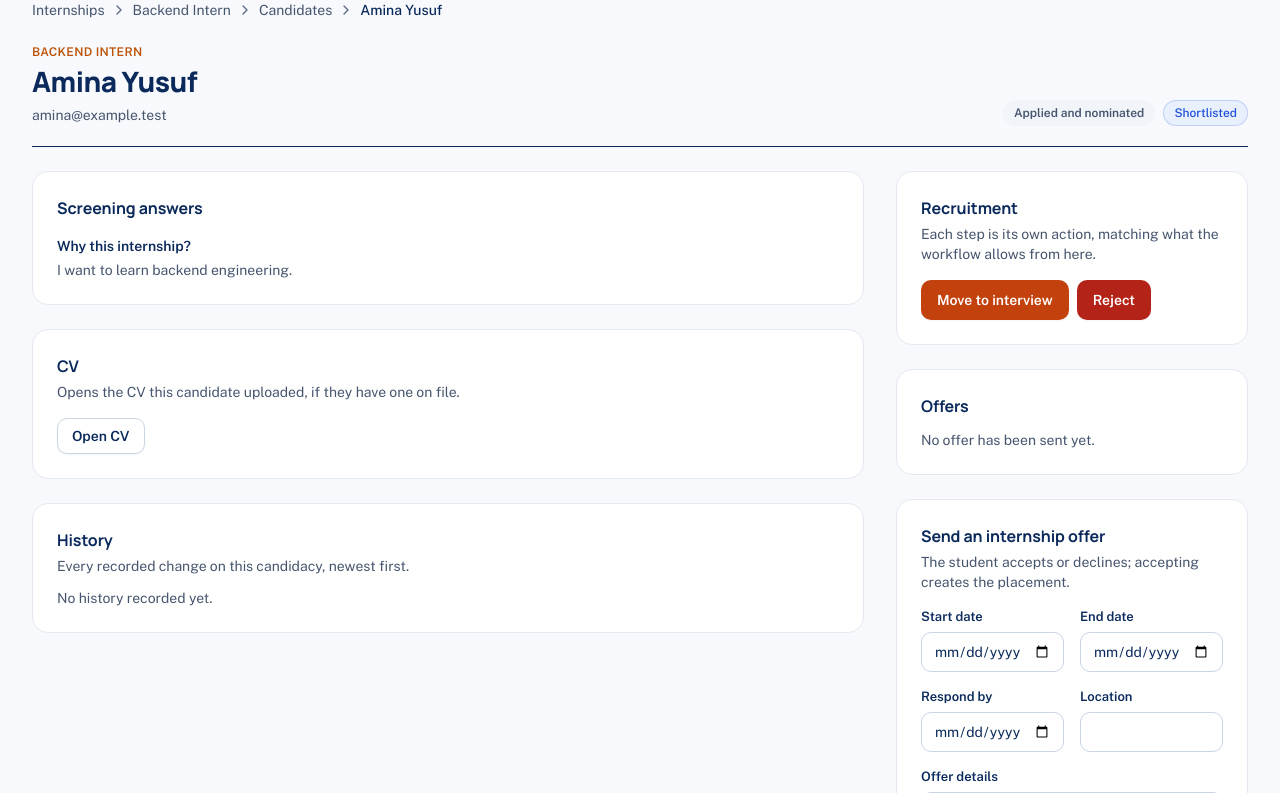
CandidateDetailPage › rejects an offer whose end date precedes the start date
Expected: the heading "Amina Yusuf" is shown, x1=32 y1=64 x2=197 y2=98
Type "2027-06-01" into the date field labelled "Start date" at (992, 652), box x1=921 y1=632 x2=1064 y2=672
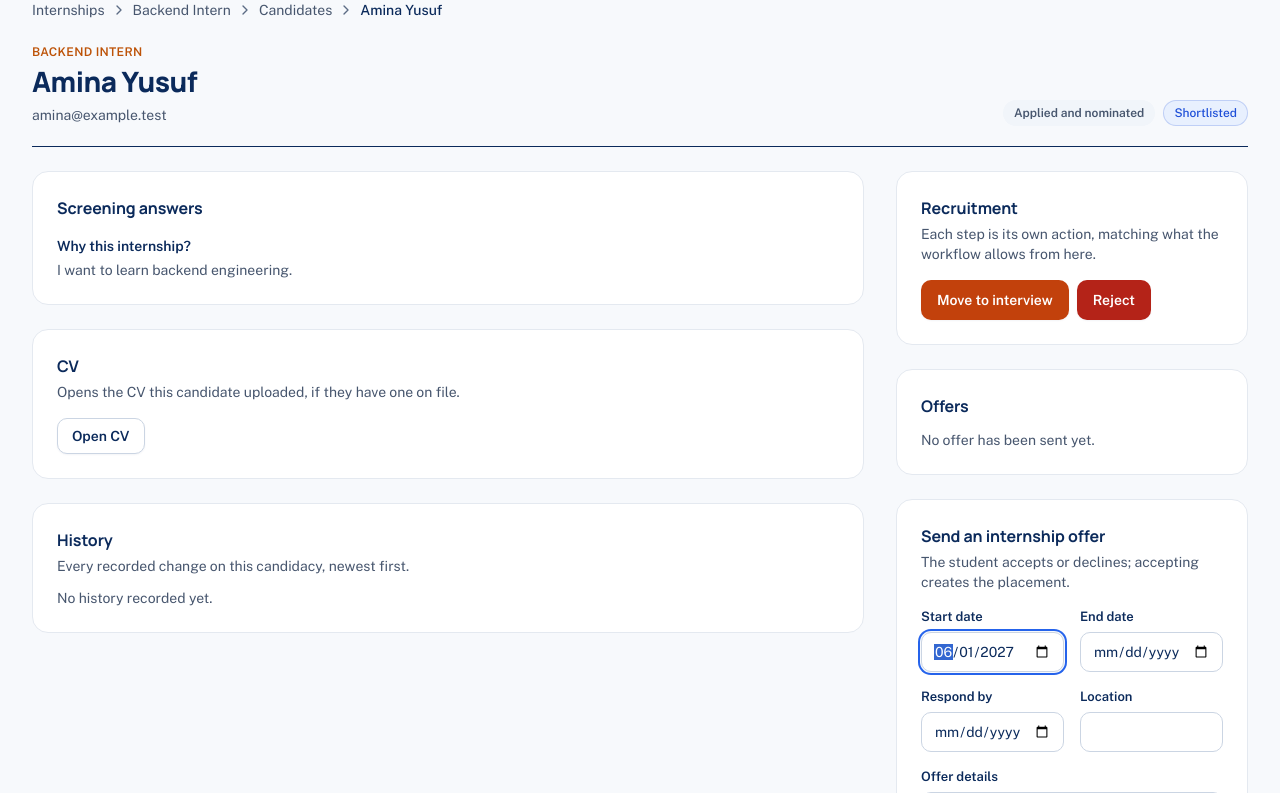
Type "2027-03-01" into the date field labelled "End date" at (1152, 652), box x1=1080 y1=632 x2=1223 y2=672
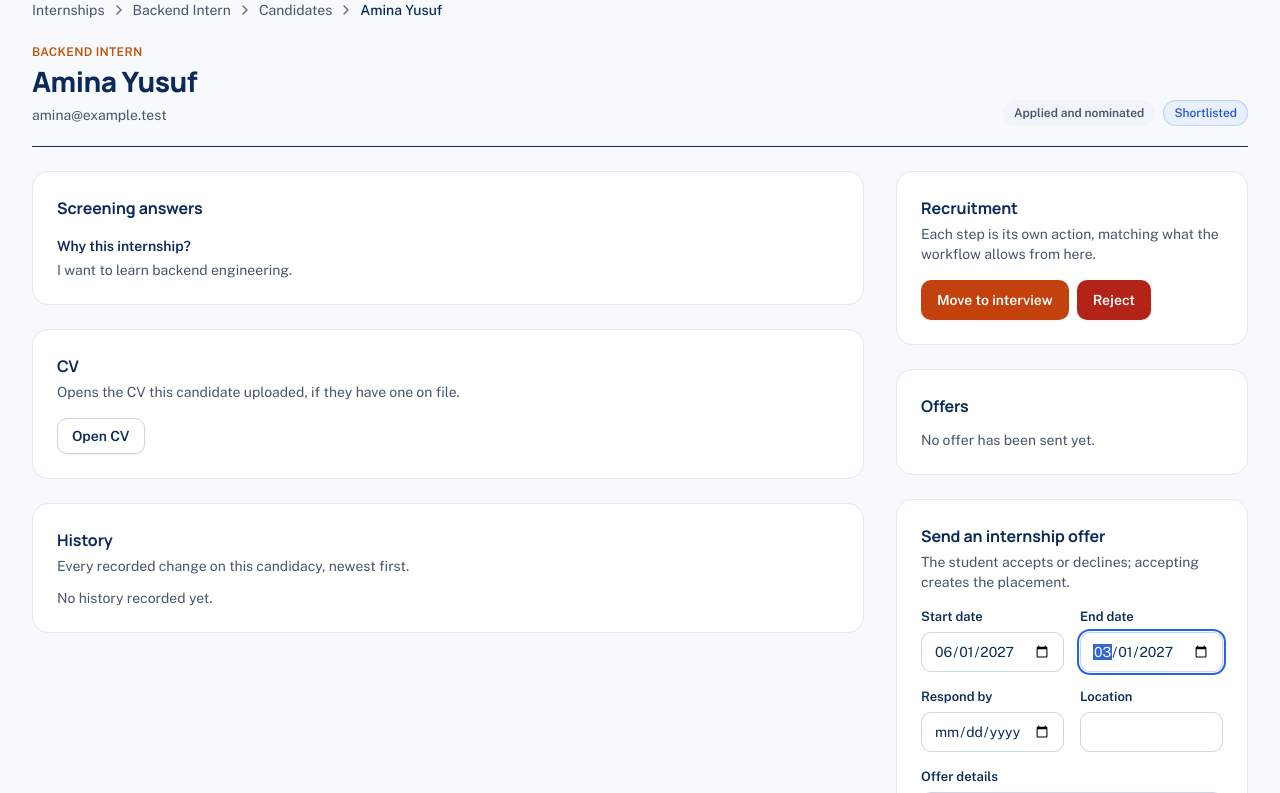
Type "2027-02-01" into the date field labelled "Respond by" at (992, 732), box x1=921 y1=712 x2=1064 y2=752
(page scrolled)
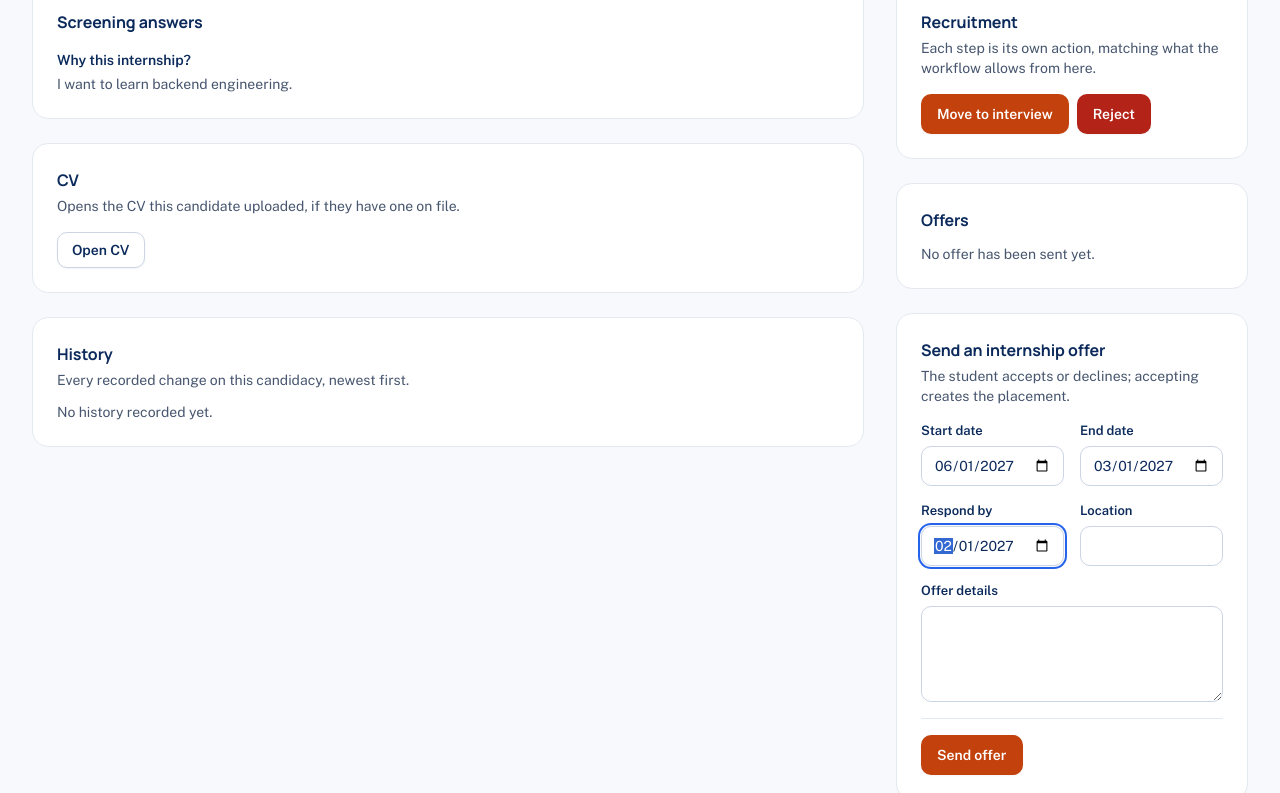
Click the button "Send offer" at (972, 755), box x1=921 y1=735 x2=1022 y2=775
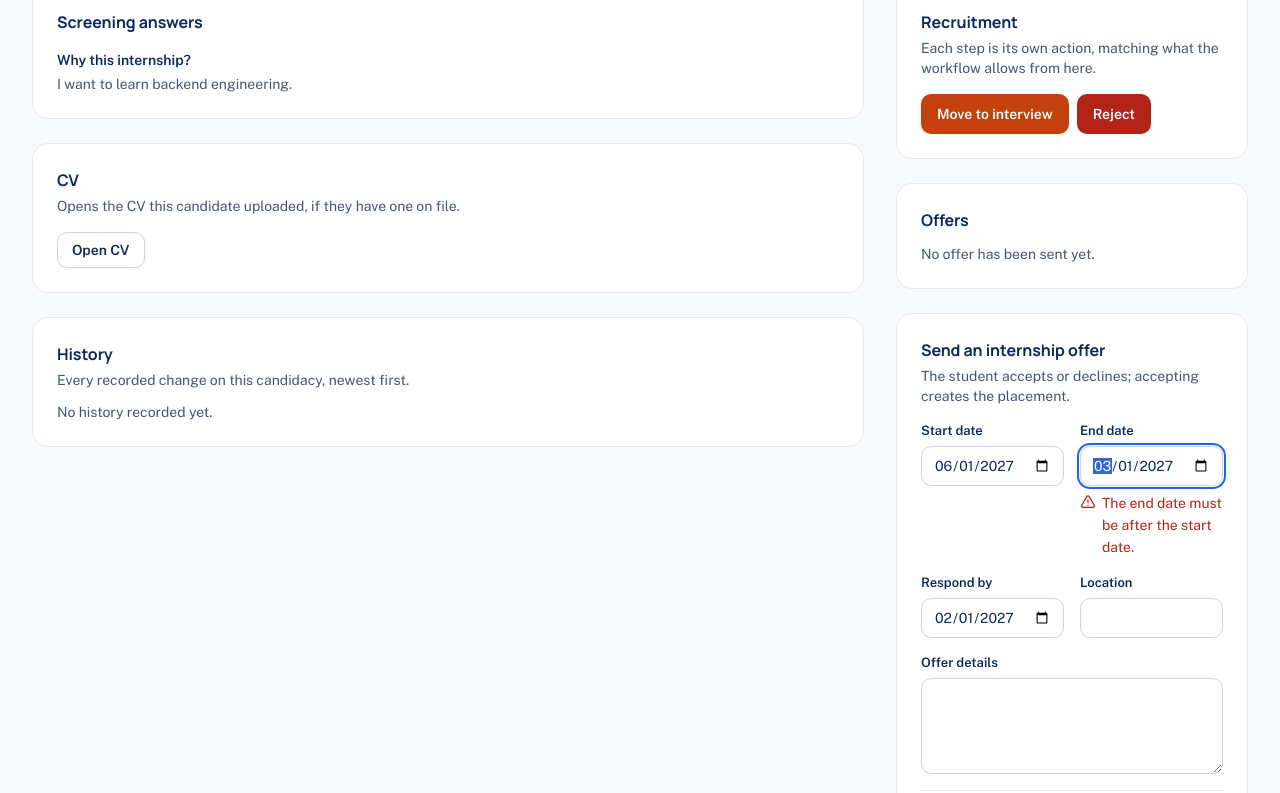
Expected: the text "The end date must be after the start date." is shown, x1=1080 y1=492 x2=1223 y2=558
